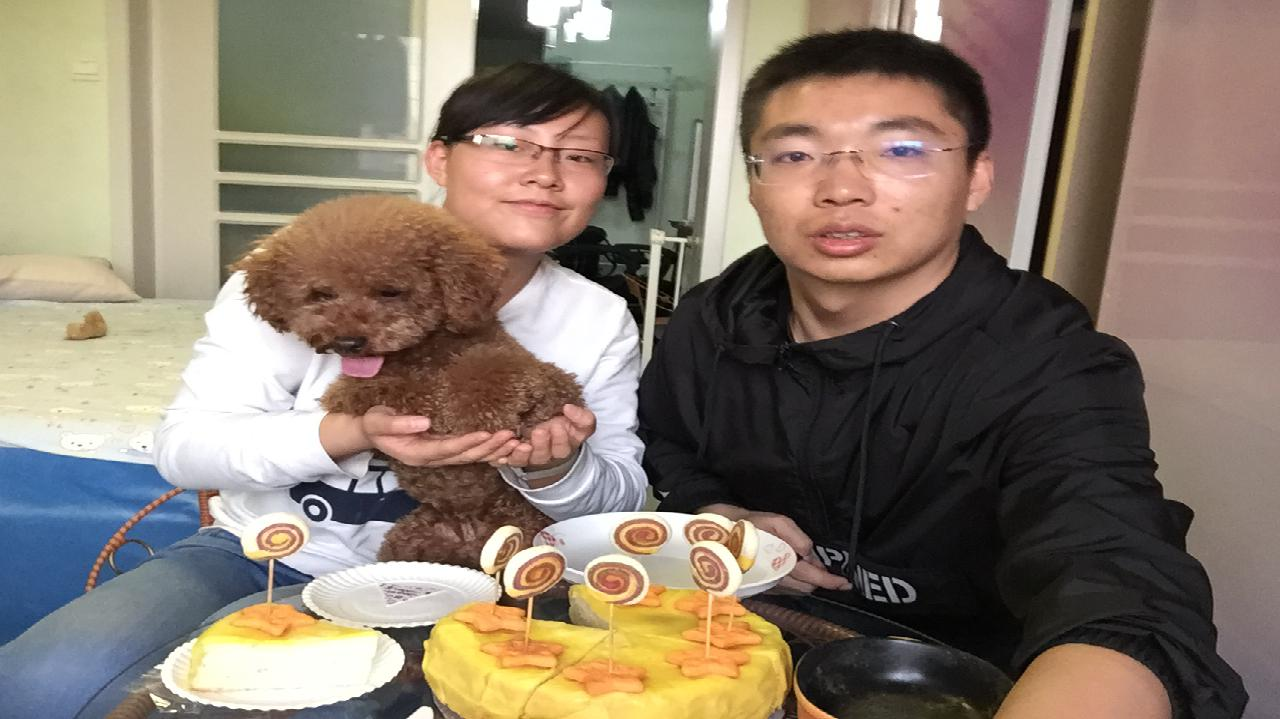zhuangzhuang: (241, 187, 592, 503)
